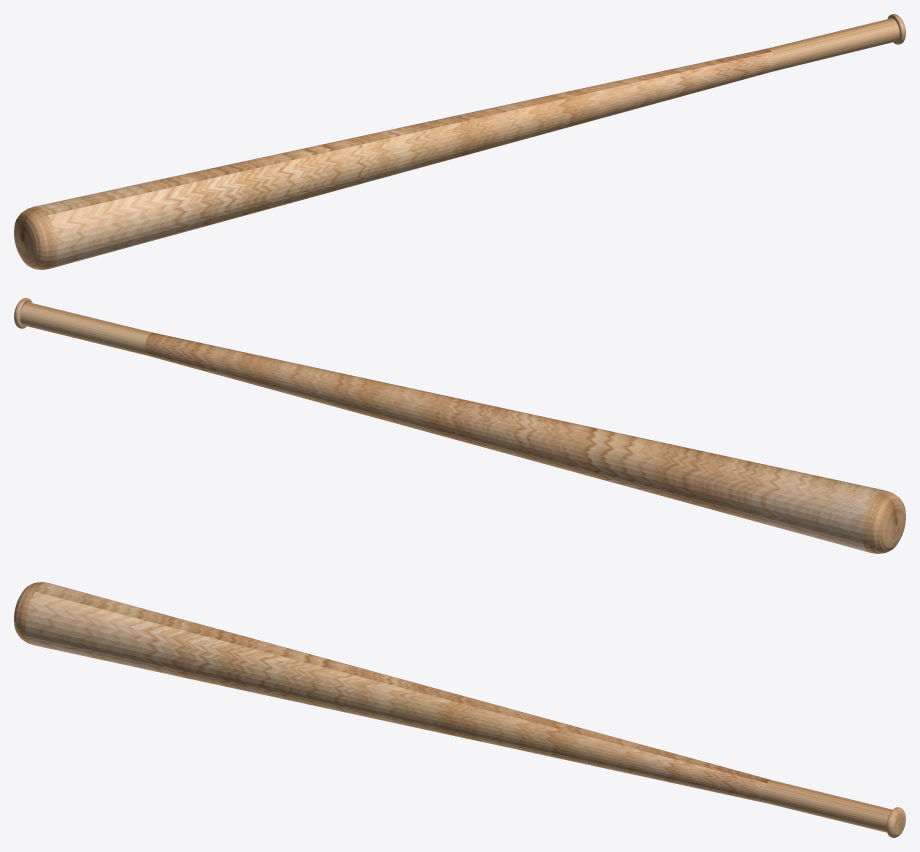
The model's file is BaseballBat.fbx.
The picture shows the model from 3 angles, top to bottom: view 1: azimuth 30°, elevation 25°; view 2: azimuth 150°, elevation 25°; view 3: azimuth 330°, elevation 25°; orthographic projection.
Parts seen in each view (by area): view 1: Sphere; view 2: Sphere; view 3: Sphere.
Boxes of the visible parts, x1,y1,x2,y2 form: Sphere: (14,14,905,269); Sphere: (14,298,905,553); Sphere: (14,582,905,837).
Bounding box in the file's own units: 4719 × 300 × 300.
